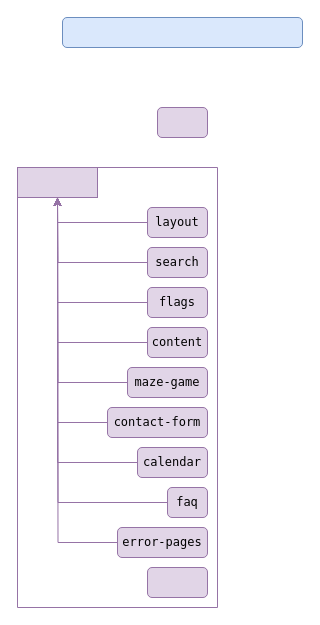
The diagram is 320 pixels wide and 625 high, and some of its shapes have lost their labels. The centre of each missing label's shape, as x and y in pixels:
"etc..." belongs at point (177, 582).
"features/" belongs at point (57, 182).
"main" belongs at point (182, 122).
"oldmcdonaldspumpkinpatchwv.com" belongs at point (182, 32).
